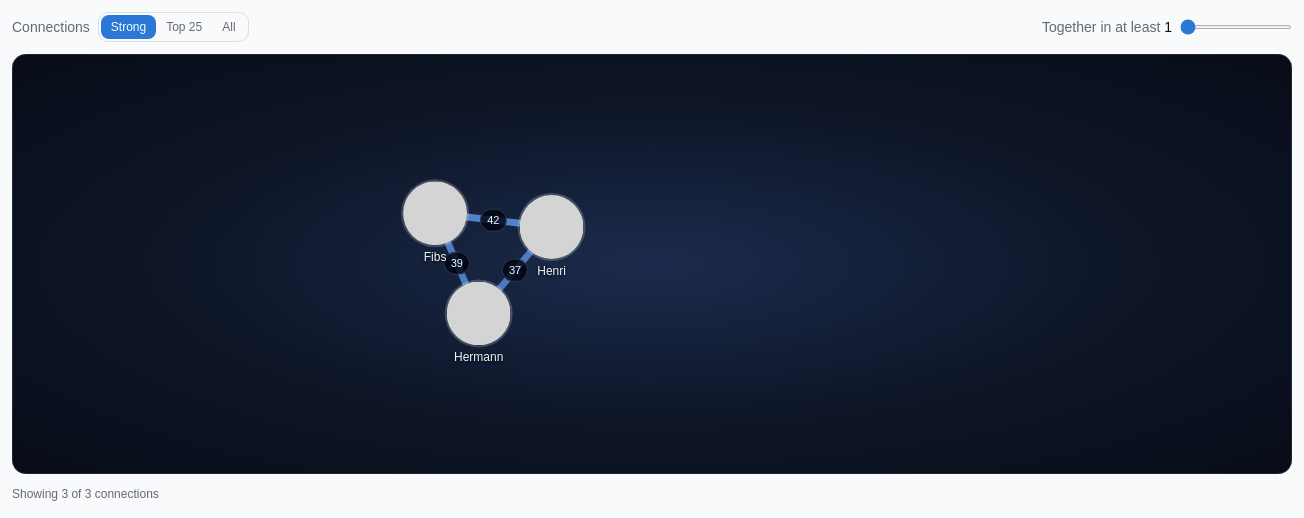
Test: FriendsNetwork › returns from focus with Escape
Click the button "Fibs".
click(435, 213)  # box x1=403 y1=181 x2=467 y2=245
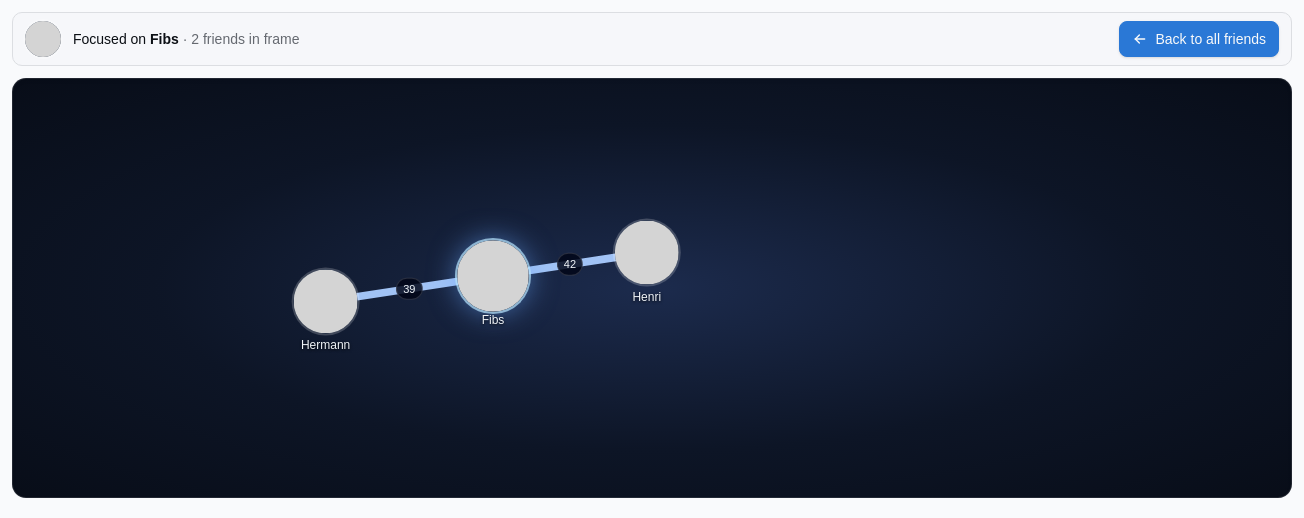
Now the text "Focused on Fibs · 2 friends in frame" is shown, box x1=73 y1=29 x2=300 y2=49
Press Escape
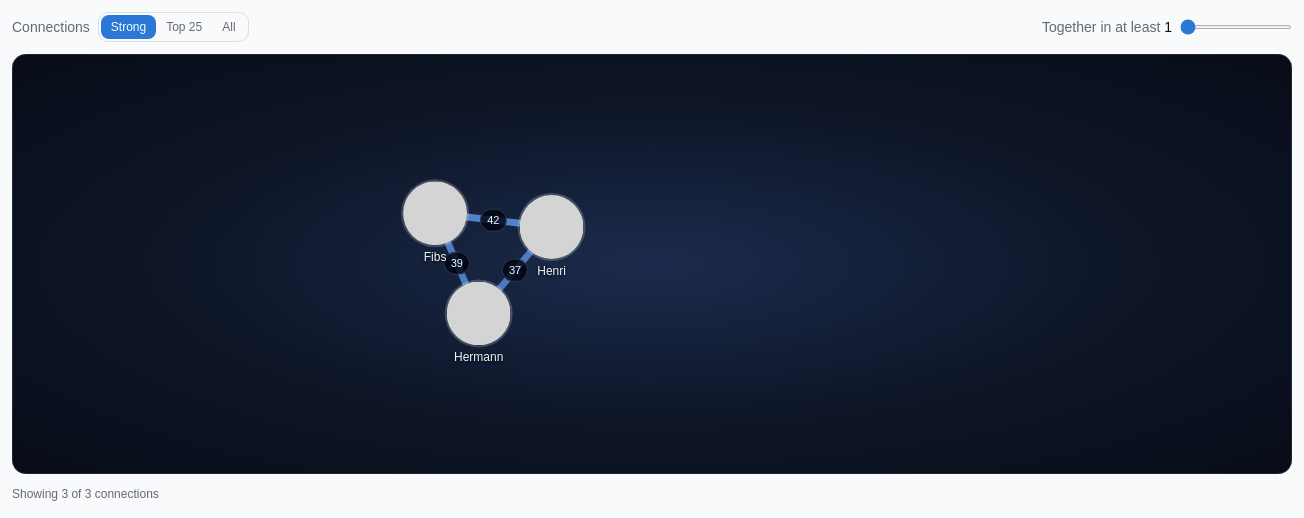
Now the text "Focused on" is gone
